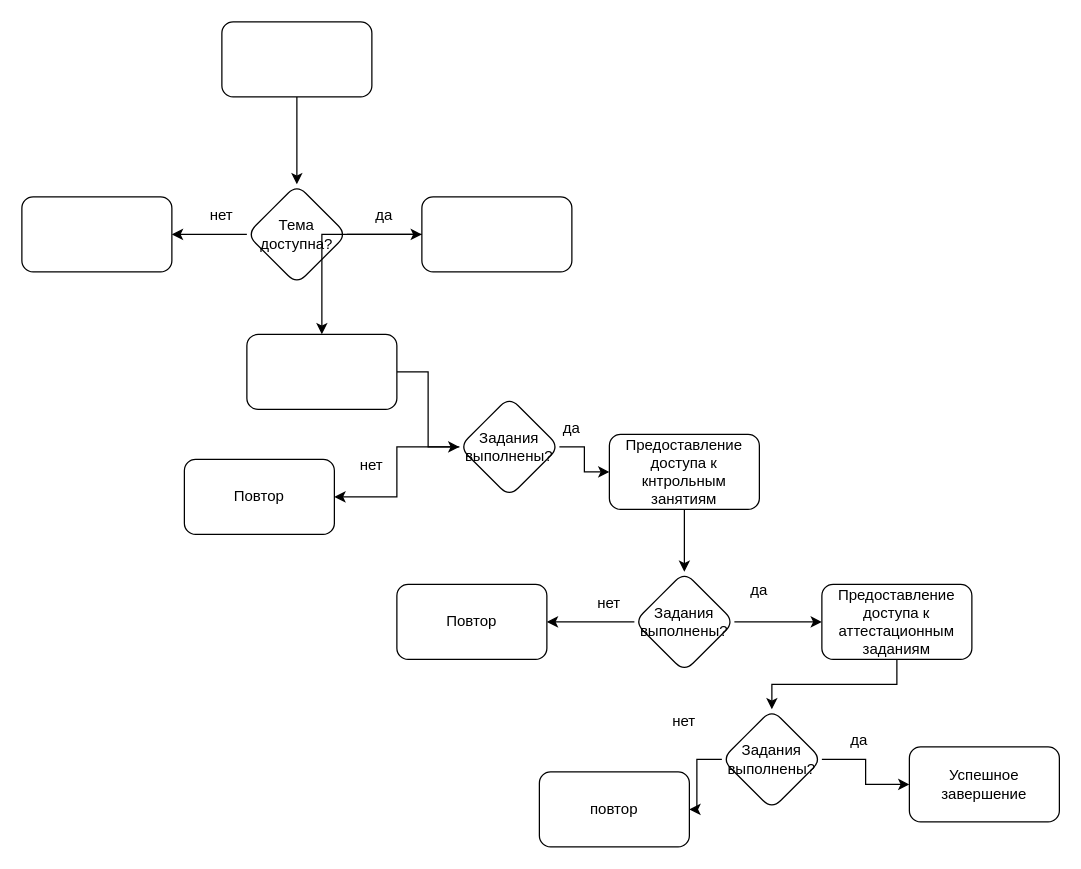
The diagram is 1081 pixels wide and 869 high, and some of its shapes have lost their labels. Here are the shapes that lost their labels. From the top down, the centre of each, then its label:
the point at 296,59: Контроль доступа к образовательной программе
the point at 96,234: Доступ закрыт
the point at 496,234: Предоставление доступа к лекционному материалу
the point at 321,371: Предоставление доступа к практическим занятиям
